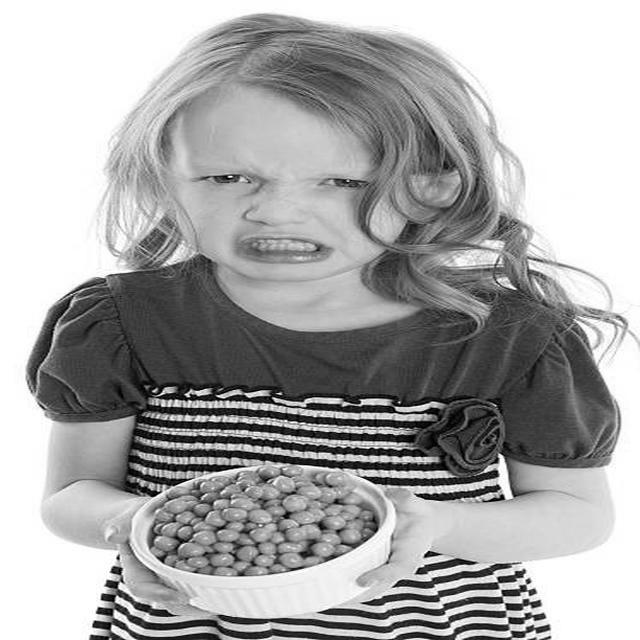Disgust: (171, 92, 408, 284)
